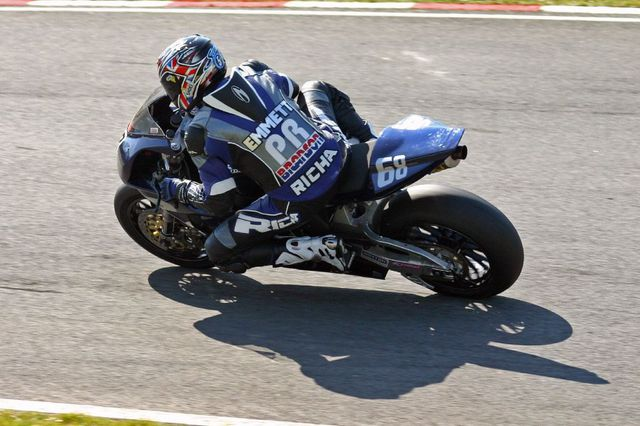helmet: (154, 41, 224, 98)
